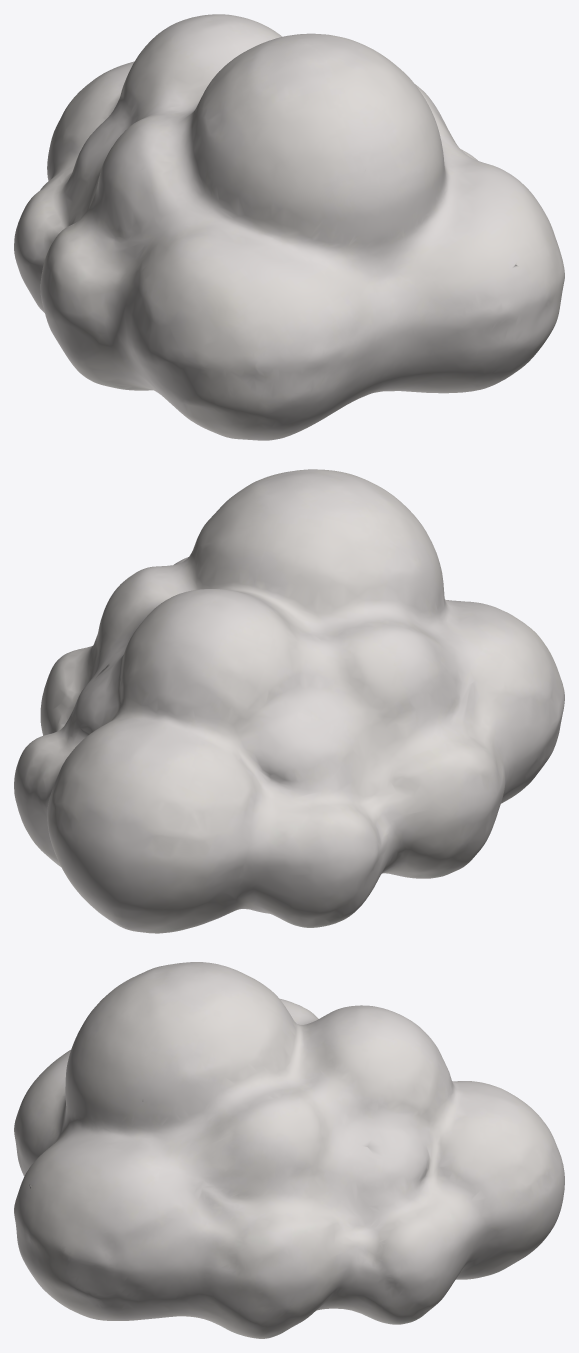
The model's file is nimbus-cloud.glb.
The picture shows the model from 3 angles, top to bottom: view 1: azimuth 30°, elevation 25°; view 2: azimuth 150°, elevation 25°; view 3: azimuth 270°, elevation 25°; orthographic projection. The views are drawn at different scales.
Visible parts, largest first — view 1: tripo_node_f3ffde4b-1a0f-4d43-827e-ba7afe55ceaf; view 2: tripo_node_f3ffde4b-1a0f-4d43-827e-ba7afe55ceaf; view 3: tripo_node_f3ffde4b-1a0f-4d43-827e-ba7afe55ceaf.
Boxes of the visible parts, x1,y1,x2,y2 form: tripo_node_f3ffde4b-1a0f-4d43-827e-ba7afe55ceaf: [14, 14, 564, 440]; tripo_node_f3ffde4b-1a0f-4d43-827e-ba7afe55ceaf: [14, 469, 564, 933]; tripo_node_f3ffde4b-1a0f-4d43-827e-ba7afe55ceaf: [14, 962, 564, 1338].
Size of the model in its own units: 0.8269 by 0.5924 by 0.9999.
Materials: 1 (1 with a texture image).
